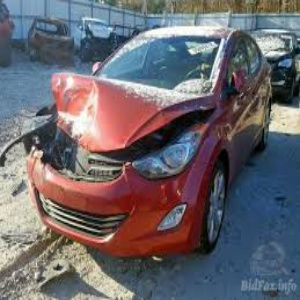bonnet: (49, 70, 169, 143)
